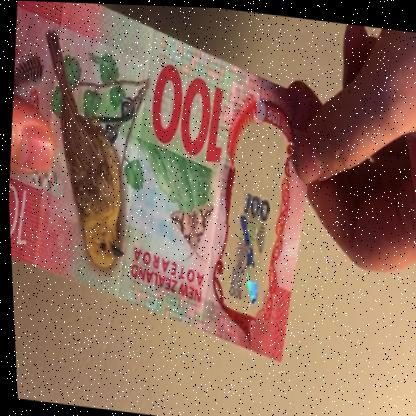100B: (220, 155, 280, 312)
